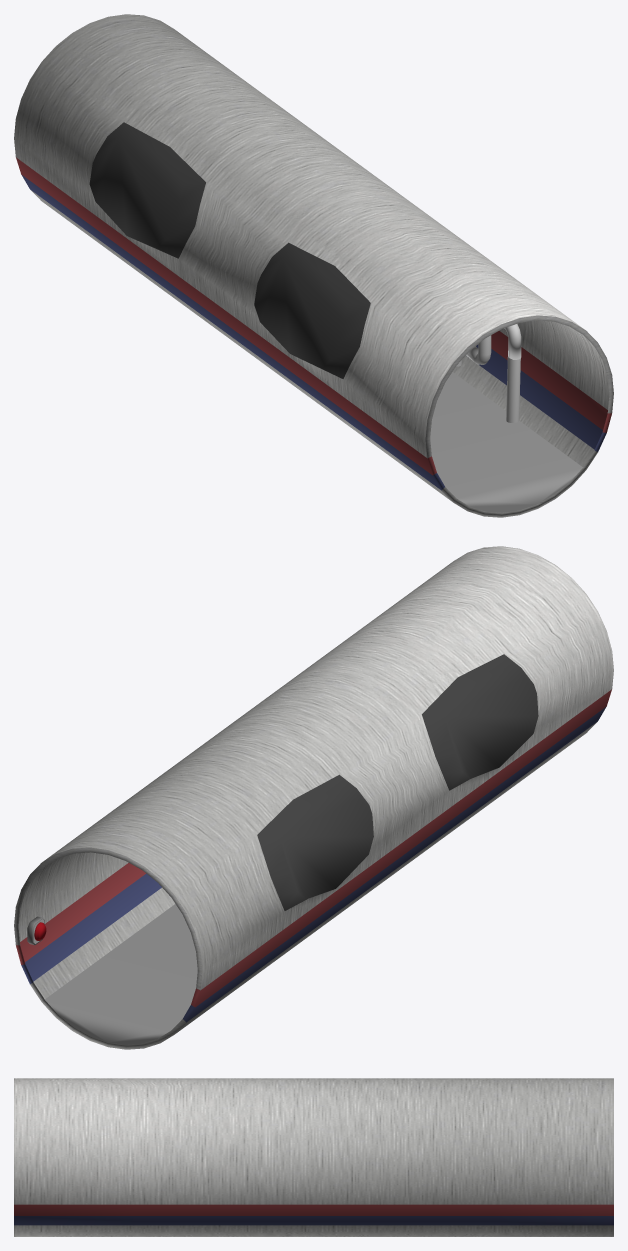
The model's file is Inner Tube.fbx.
3 views of the same model, one above another, from view 1: azimuth 30°, elevation 25°; view 2: azimuth 150°, elevation 25°; view 3: azimuth 270°, elevation 25° (orthographic). The views are drawn at different scales.
Parts seen in each view (by area): view 1: Tube, Floor, Pipes.009; view 2: Tube, Floor; view 3: Tube.
Boxes of the visible parts, x1,y1,x2,y2 form: Tube: (14, 14, 613, 517); Floor: (430, 372, 582, 512); Pipes.009: (506, 356, 520, 422); Tube: (14, 546, 613, 1049); Floor: (44, 904, 197, 1044); Tube: (14, 1078, 613, 1236).
Size of the model in its own units: 818 by 771 by 2920.
